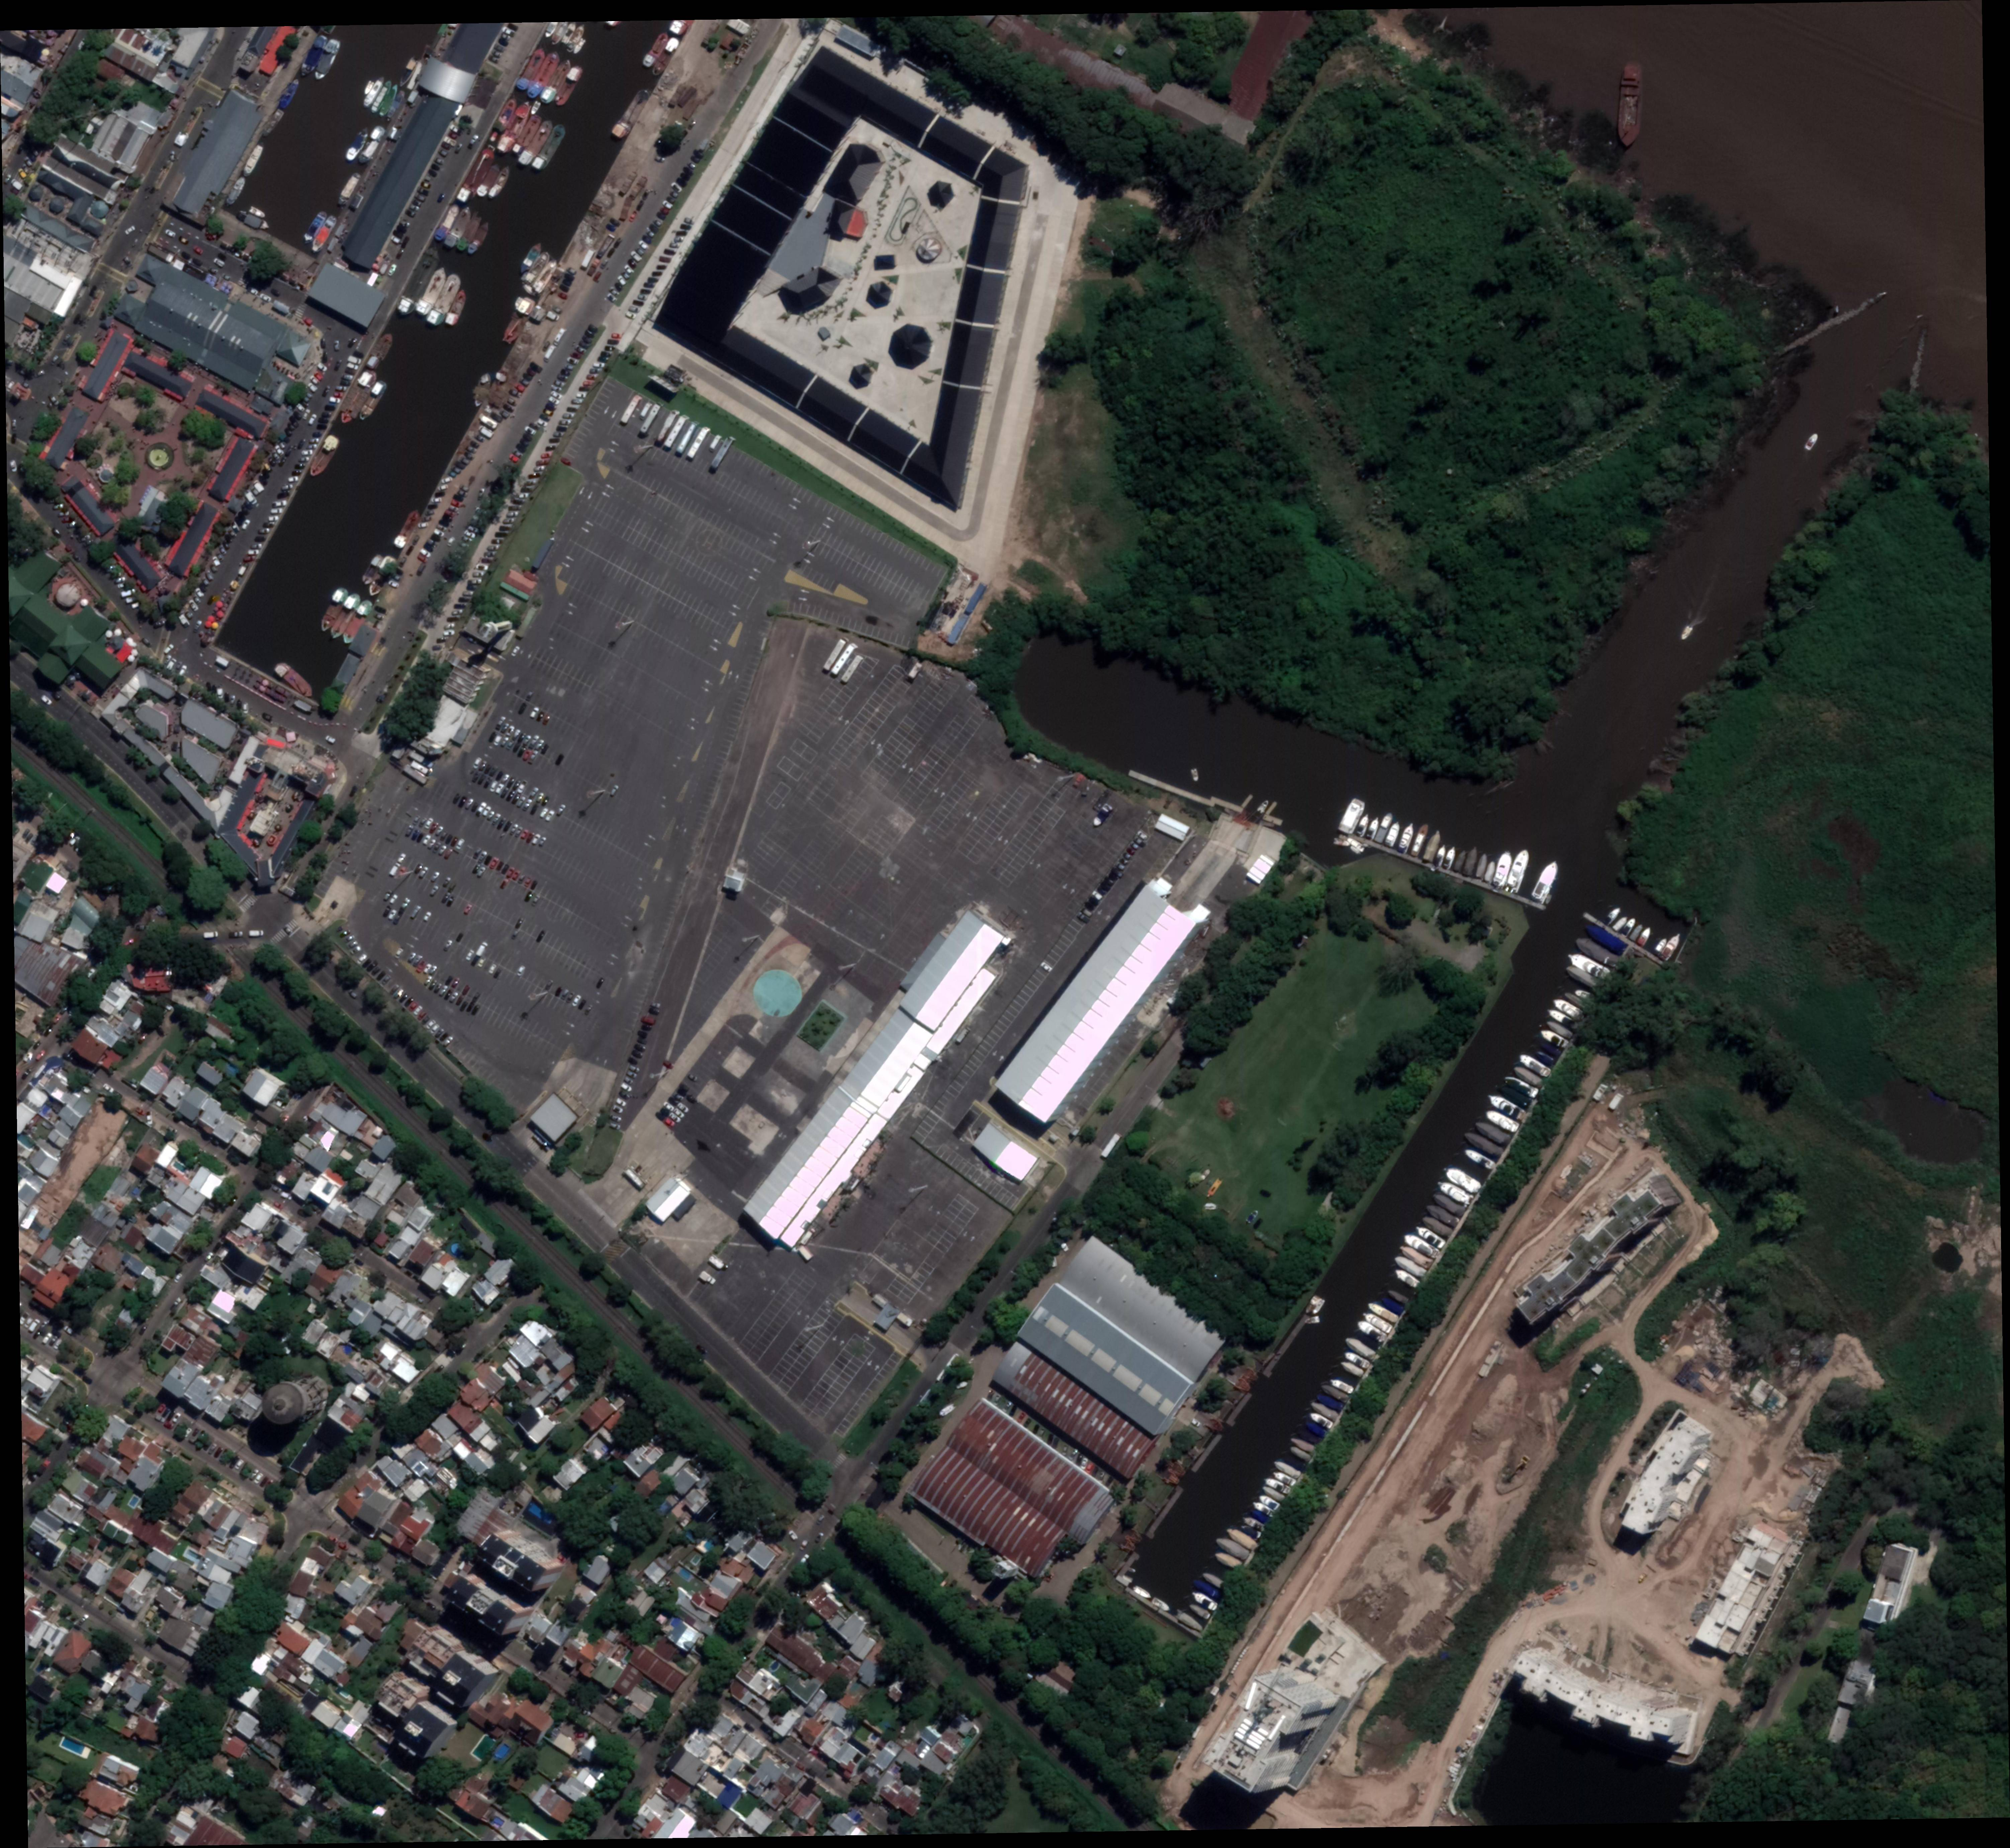ship: (392, 245, 446, 320), (453, 145, 501, 208), (336, 364, 382, 429), (422, 268, 467, 329), (1616, 58, 1646, 150), (492, 98, 538, 158), (609, 84, 655, 142), (513, 116, 559, 170), (497, 292, 541, 348), (524, 47, 566, 102), (529, 119, 571, 173), (411, 264, 452, 320), (271, 656, 319, 702), (536, 56, 576, 107), (326, 590, 364, 642), (338, 597, 375, 649), (305, 432, 343, 481), (308, 37, 345, 88), (1529, 856, 1565, 907), (1564, 947, 1614, 984), (487, 93, 522, 145), (513, 46, 550, 95), (510, 110, 546, 159), (296, 32, 333, 81), (1572, 933, 1621, 970), (317, 585, 352, 635), (354, 378, 390, 425), (1483, 1087, 1529, 1124), (552, 63, 587, 110), (453, 206, 488, 254), (441, 203, 476, 250), (648, 33, 683, 81), (364, 553, 399, 600), (1502, 844, 1534, 896), (390, 506, 425, 551), (1439, 1162, 1485, 1197), (1583, 922, 1628, 957), (1460, 1127, 1507, 1160), (517, 249, 553, 290), (362, 329, 399, 371), (637, 28, 672, 72), (1562, 963, 1609, 994), (354, 123, 387, 166), (1336, 795, 1369, 838), (529, 256, 562, 298), (432, 200, 464, 243), (1212, 1531, 1252, 1565), (308, 214, 340, 256), (1434, 1178, 1476, 1209), (1401, 1230, 1443, 1262), (357, 72, 389, 112), (1472, 1118, 1515, 1148), (443, 285, 471, 329), (299, 208, 331, 247), (1411, 1222, 1450, 1253), (485, 161, 515, 201), (341, 124, 371, 165), (238, 138, 268, 179), (1481, 1106, 1522, 1136), (1395, 1241, 1436, 1271), (1502, 1071, 1543, 1101), (1359, 1306, 1395, 1337), (366, 79, 396, 117), (334, 170, 364, 208), (1509, 1061, 1548, 1090), (1422, 1201, 1460, 1230), (1392, 1251, 1430, 1281), (1550, 994, 1588, 1024), (474, 159, 502, 200), (1490, 847, 1516, 889), (517, 240, 546, 277), (1516, 1050, 1553, 1080), (1224, 1523, 1261, 1552), (1656, 928, 1686, 964), (1341, 1332, 1378, 1362), (466, 219, 494, 257), (375, 81, 403, 119), (1460, 1144, 1499, 1173), (1429, 1190, 1467, 1218), (1420, 1213, 1455, 1243), (1353, 1316, 1388, 1346), (359, 551, 387, 588), (1544, 1005, 1581, 1033), (1364, 1299, 1401, 1327), (473, 367, 495, 411), (1171, 1607, 1206, 1634), (222, 173, 250, 208), (1371, 808, 1397, 845), (1420, 828, 1446, 865), (1317, 1379, 1353, 1405), (259, 107, 287, 140), (1210, 1547, 1245, 1573), (1189, 1575, 1224, 1601), (277, 77, 303, 112), (1306, 1397, 1341, 1423), (1408, 821, 1432, 858), (1460, 842, 1485, 879), (1199, 1568, 1233, 1594), (1537, 1026, 1571, 1052), (1189, 1587, 1220, 1614), (564, 21, 588, 54), (383, 88, 408, 121), (1390, 1265, 1423, 1290), (1562, 989, 1595, 1013), (1261, 1474, 1294, 1498), (1544, 1017, 1576, 1041), (1397, 819, 1418, 856), (1271, 1456, 1303, 1481), (396, 56, 418, 89), (1313, 1391, 1346, 1414), (1089, 802, 1115, 830), (1341, 1348, 1373, 1370), (1336, 1358, 1367, 1381), (1287, 1433, 1318, 1456), (1259, 1482, 1289, 1505), (1306, 1409, 1336, 1432), (1248, 1498, 1278, 1519), (1327, 1376, 1357, 1397), (1383, 817, 1402, 849), (559, 19, 580, 47), (1247, 1507, 1275, 1528), (1240, 1514, 1268, 1535), (1303, 1419, 1331, 1440), (1287, 1442, 1315, 1463), (1441, 842, 1460, 872), (1602, 903, 1625, 928), (1385, 1286, 1411, 1307), (1380, 1295, 1406, 1316), (1353, 810, 1373, 838), (1474, 850, 1492, 880), (1618, 915, 1639, 940), (1271, 1468, 1297, 1487), (1255, 1493, 1282, 1512), (1481, 858, 1500, 884), (1364, 814, 1381, 842), (1649, 935, 1670, 957), (1187, 1601, 1212, 1621), (1149, 1594, 1173, 1614), (1129, 1582, 1154, 1601), (1635, 924, 1655, 949), (1238, 1523, 1264, 1540), (1432, 842, 1450, 868), (1451, 847, 1469, 873), (1304, 1292, 1322, 1316), (1611, 914, 1630, 935), (1803, 431, 1821, 453), (1628, 921, 1646, 943), (937, 1402, 958, 1419), (1346, 837, 1367, 854), (247, 205, 268, 221), (1311, 1297, 1327, 1318), (1243, 1208, 1261, 1225), (573, 37, 588, 56), (1679, 625, 1695, 644), (1255, 798, 1271, 816), (529, 100, 543, 117), (362, 79, 376, 96), (1303, 1314, 1322, 1327), (1332, 837, 1352, 849), (1348, 842, 1362, 856), (1189, 767, 1201, 782), (1544, 893, 1555, 905)
storage tank: (261, 1383, 303, 1425)
swimming pool: (522, 1498, 560, 1535), (471, 1731, 499, 1762), (60, 1734, 91, 1759), (702, 1535, 727, 1559), (170, 1157, 193, 1178), (334, 1680, 355, 1701), (182, 1545, 205, 1565), (620, 1645, 639, 1666), (683, 1526, 702, 1547), (492, 1743, 513, 1762), (767, 1657, 784, 1677), (678, 1565, 695, 1582), (124, 1493, 142, 1510), (868, 1729, 884, 1747), (33, 1659, 49, 1677), (490, 1813, 508, 1827), (690, 1552, 704, 1566), (226, 1061, 240, 1075)
